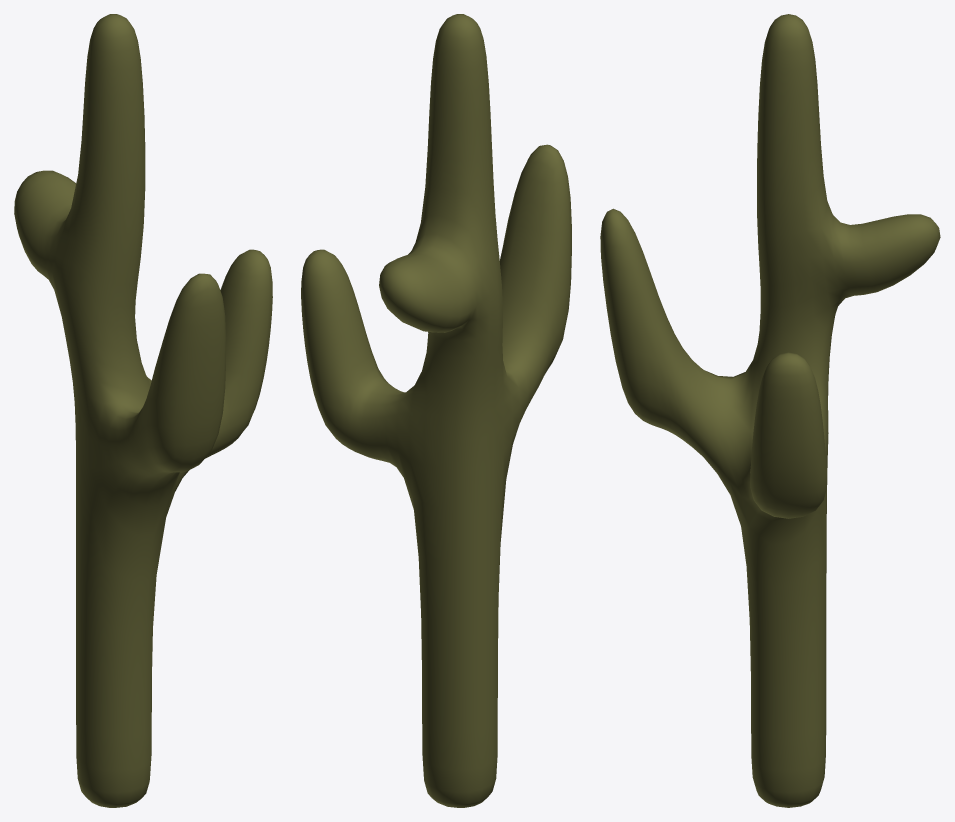
Rendered from cactus_2.glb.
The picture shows the model from 3 angles, left to right: view 1: azimuth 30°, elevation 25°; view 2: azimuth 150°, elevation 25°; view 3: azimuth 270°, elevation 25°; orthographic projection.
Visible parts, largest first — view 1: Cube.001; view 2: Cube.001; view 3: Cube.001.
Part boxes in pixels (x1,y1,x2,y2): Cube.001: (14,14,272,807); Cube.001: (301,14,571,807); Cube.001: (600,14,940,807).
Bounding box in the file's own units: 2.55 × 9.72 × 3.81.
